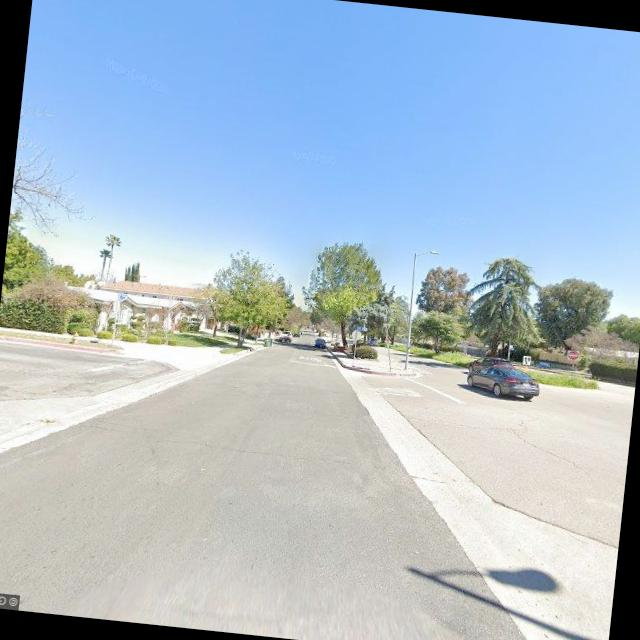crack: (75, 422, 423, 484), (504, 418, 600, 478)
